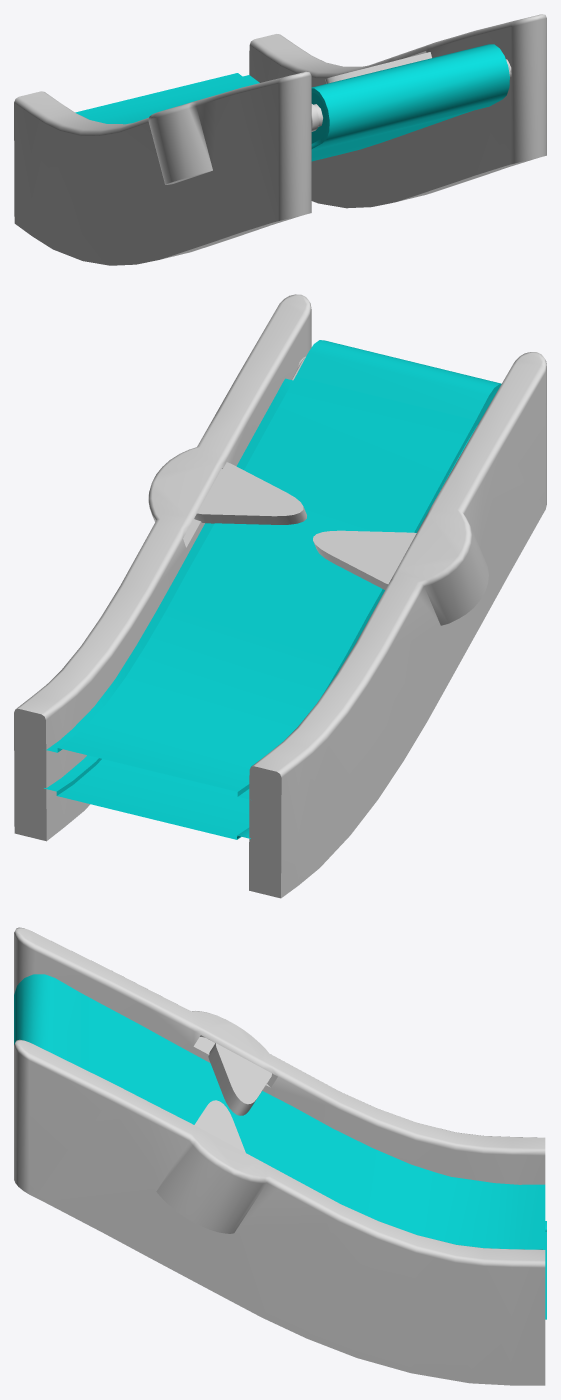
Rendered from BeltPortReceiverInternalVariant.gltf.
3 renders of one model, top to bottom at view 1: azimuth 30°, elevation 25°; view 2: azimuth 150°, elevation 25°; view 3: azimuth 270°, elevation 25°, orthographic. The views are drawn at different scales.
Parts seen in each view (by area): view 1: BeltPort_Receiver_Main_LOD0, BeltPort_StopperR_Main_LOD0; view 2: BeltPort_Receiver_Main_LOD0, BeltPort_StopperR_Main_LOD0, BeltPort_StopperL_Main_LOD0; view 3: BeltPort_Receiver_Main_LOD0, BeltPort_StopperL_Main_LOD0, BeltPort_StopperR_Main_LOD0.
Part boxes in pixels (box(x1,y1,x2,y2)): BeltPort_Receiver_Main_LOD0: box(14, 14, 546, 265); BeltPort_StopperR_Main_LOD0: box(325, 52, 431, 83); BeltPort_Receiver_Main_LOD0: box(14, 294, 546, 898); BeltPort_StopperR_Main_LOD0: box(194, 462, 306, 524); BeltPort_StopperL_Main_LOD0: box(313, 530, 416, 589); BeltPort_Receiver_Main_LOD0: box(14, 927, 546, 1385); BeltPort_StopperL_Main_LOD0: box(208, 1043, 271, 1115); BeltPort_StopperR_Main_LOD0: box(194, 1100, 245, 1152).
Size of the model in its own units: 0.6631 by 0.6972 by 1.
